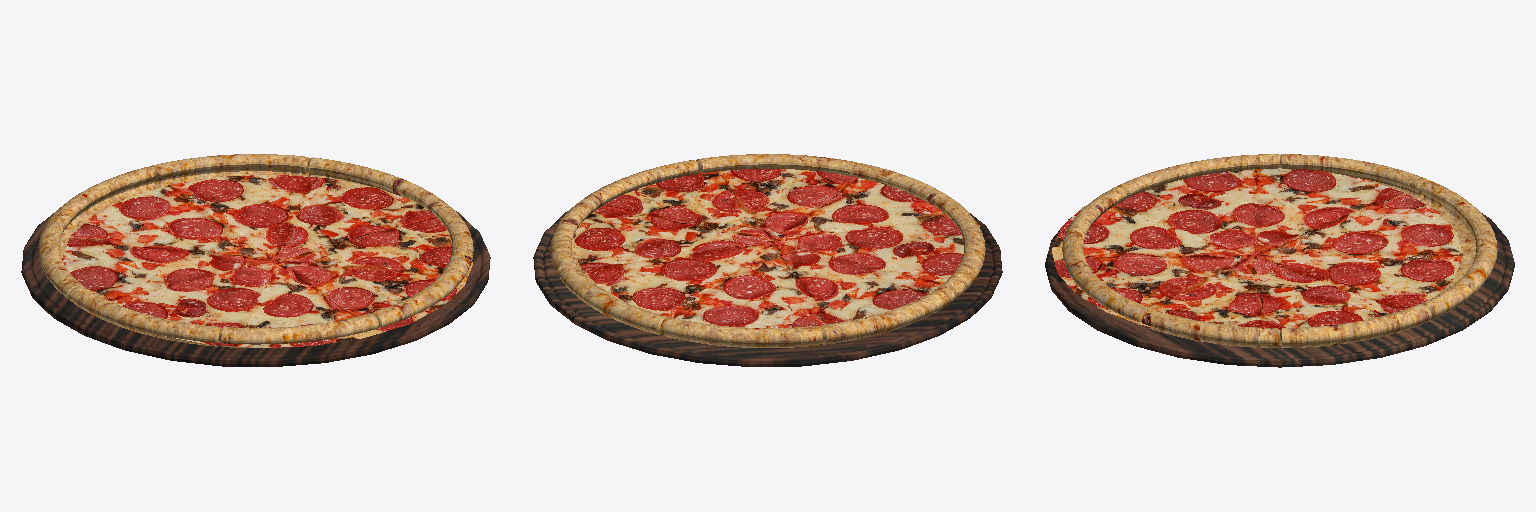
The picture shows the model from 3 angles: view 1: azimuth 30°, elevation 25°; view 2: azimuth 150°, elevation 25°; view 3: azimuth 270°, elevation 25°; orthographic projection.
Visible parts, largest first — view 1: Cylinder009, Cylinder003, Cylinder008; view 2: Cylinder009, Cylinder003, Cylinder008; view 3: Cylinder009, Cylinder003, Cylinder008.
Part boxes in pixels (x1,y1,x2,y2): Cylinder009: (62,175,472,347); Cylinder003: (38,154,473,347); Cylinder008: (21,211,490,366); Cylinder009: (574,169,979,327); Cylinder003: (550,154,985,347); Cylinder008: (533,211,1002,366); Cylinder009: (1052,168,1462,329); Cylinder003: (1062,154,1497,347); Cylinder008: (1045,213,1514,367).
Size of the model in its own units: 120 by 7.74 by 120.
Materials: 3 (3 with a texture image).